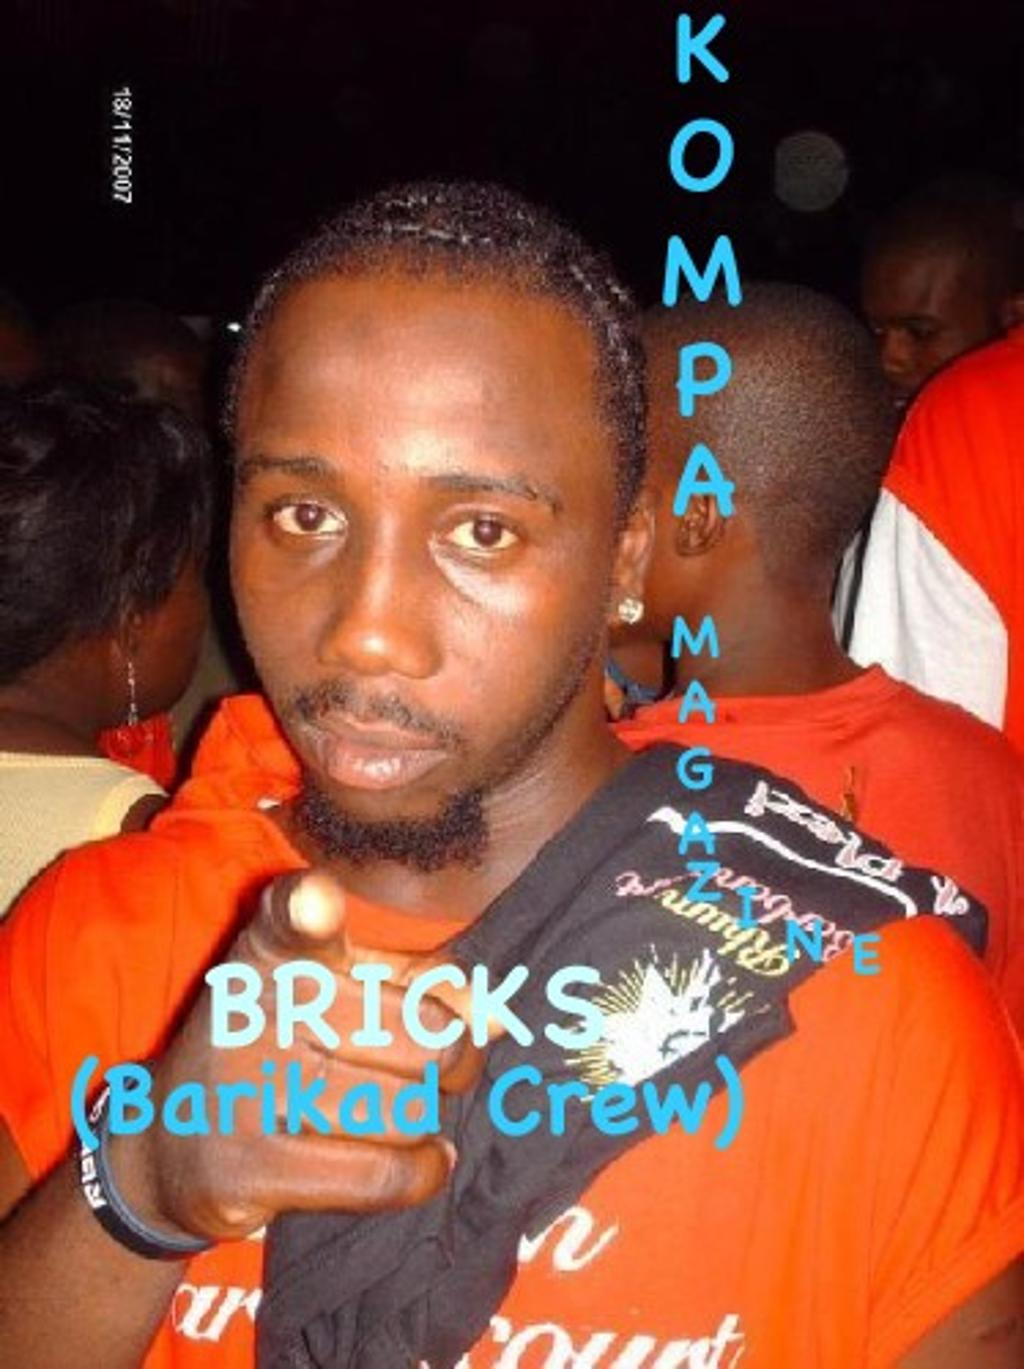face: (235, 265, 623, 829), (861, 238, 968, 431)
